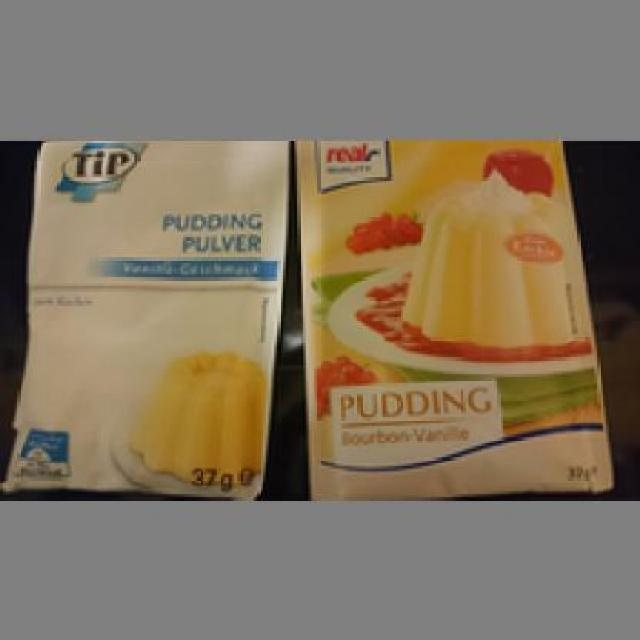Cake: (292, 134, 618, 497), (8, 132, 286, 494)
